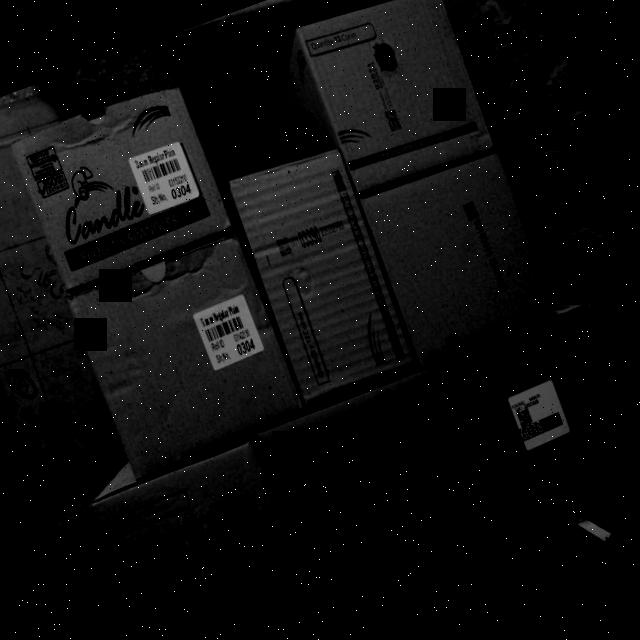box: (252, 368, 496, 618), (63, 229, 307, 477), (224, 144, 415, 406), (8, 79, 236, 296), (429, 304, 640, 538), (89, 438, 322, 640), (357, 142, 559, 365), (292, 0, 497, 198)
